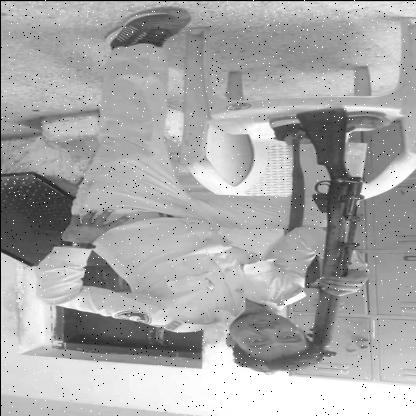rifle: (292, 105, 368, 362)
